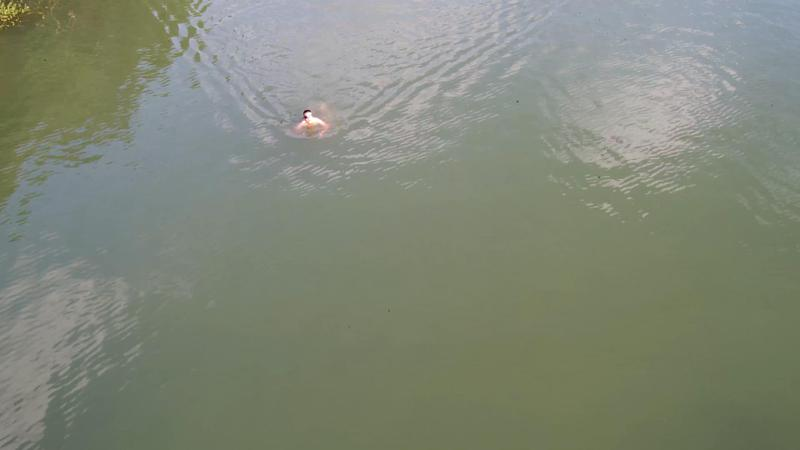swimmers: (291, 100, 331, 140)
